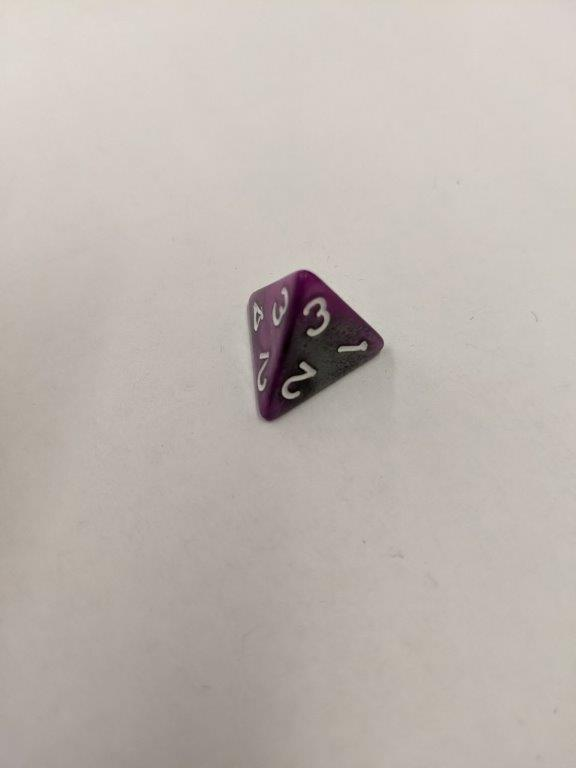d4-3: (241, 268, 385, 423)
